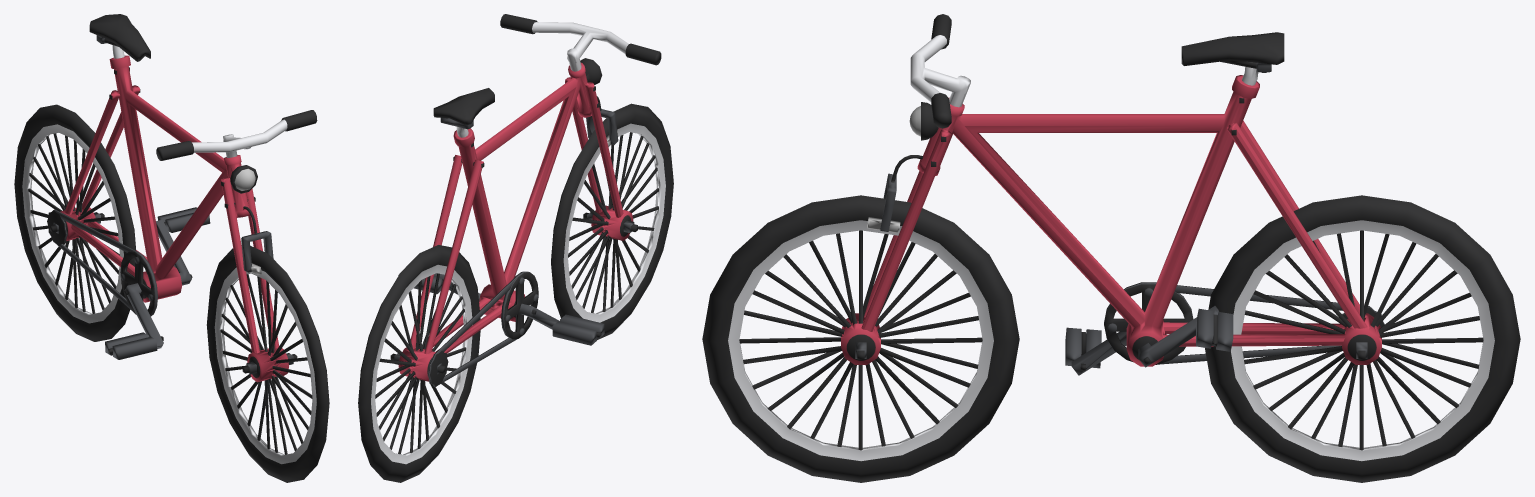
File: Bike.gltf
3 views of the same model, side by side, from view 1: azimuth 30°, elevation 25°; view 2: azimuth 150°, elevation 25°; view 3: azimuth 270°, elevation 25° (orthographic). The views are drawn at different scales.
Parts seen in each view (by area): view 1: node-0; view 2: node-0; view 3: node-0.
Part boxes in pixels (x1=…): node-0: x1=14, y1=14, x2=329, y2=482; node-0: x1=358, y1=14, x2=673, y2=482; node-0: x1=702, y1=14, x2=1520, y2=482.
Bounding box in the file's own units: 462 × 982 × 1634.
Materials: 1 (1 with a texture image).
